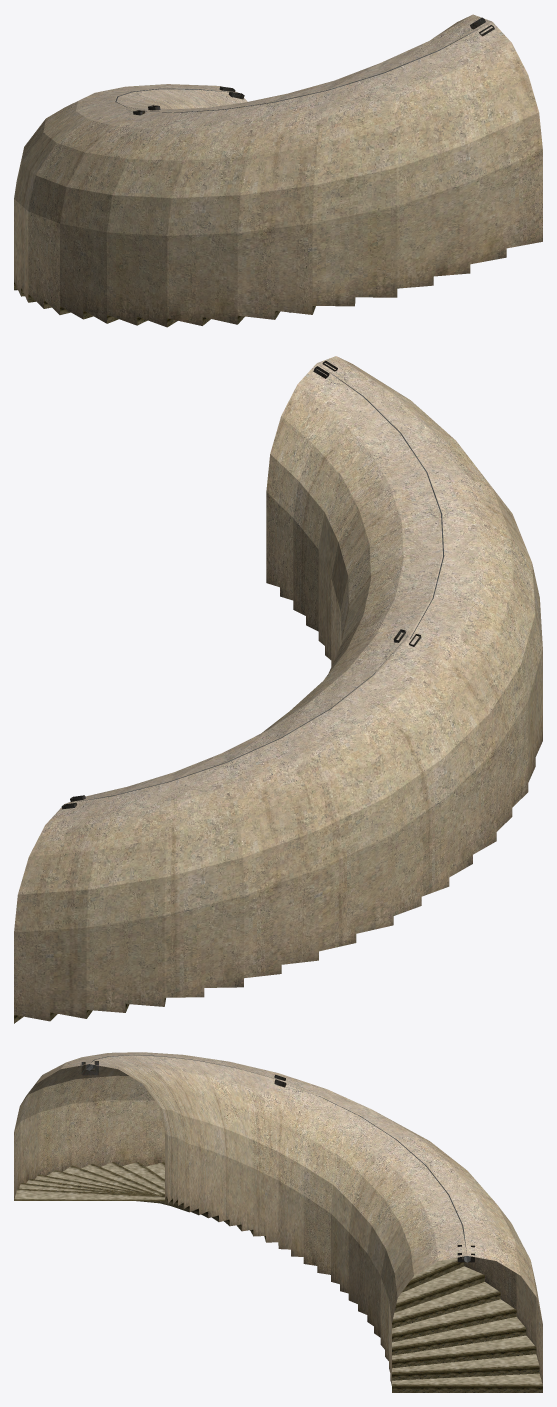
Rendered from thm_tato_jabbas_palace_r22_stairs6_mesh_r22.fbx.
3 renders of one model, top to bottom at view 1: azimuth 30°, elevation 25°; view 2: azimuth 150°, elevation 25°; view 3: azimuth 270°, elevation 25°, orthographic. The views are drawn at different scales.
Parts seen in each view (by area): view 1: mesh_node; view 2: mesh_node; view 3: mesh_node.
Part boxes in pixels (box(x1,y1,x2,y2)): mesh_node: box(14, 14, 542, 327); mesh_node: box(14, 356, 542, 1023); mesh_node: box(14, 1052, 542, 1392).
Bounding box in the file's own units: 7.03 × 9.62 × 14.
